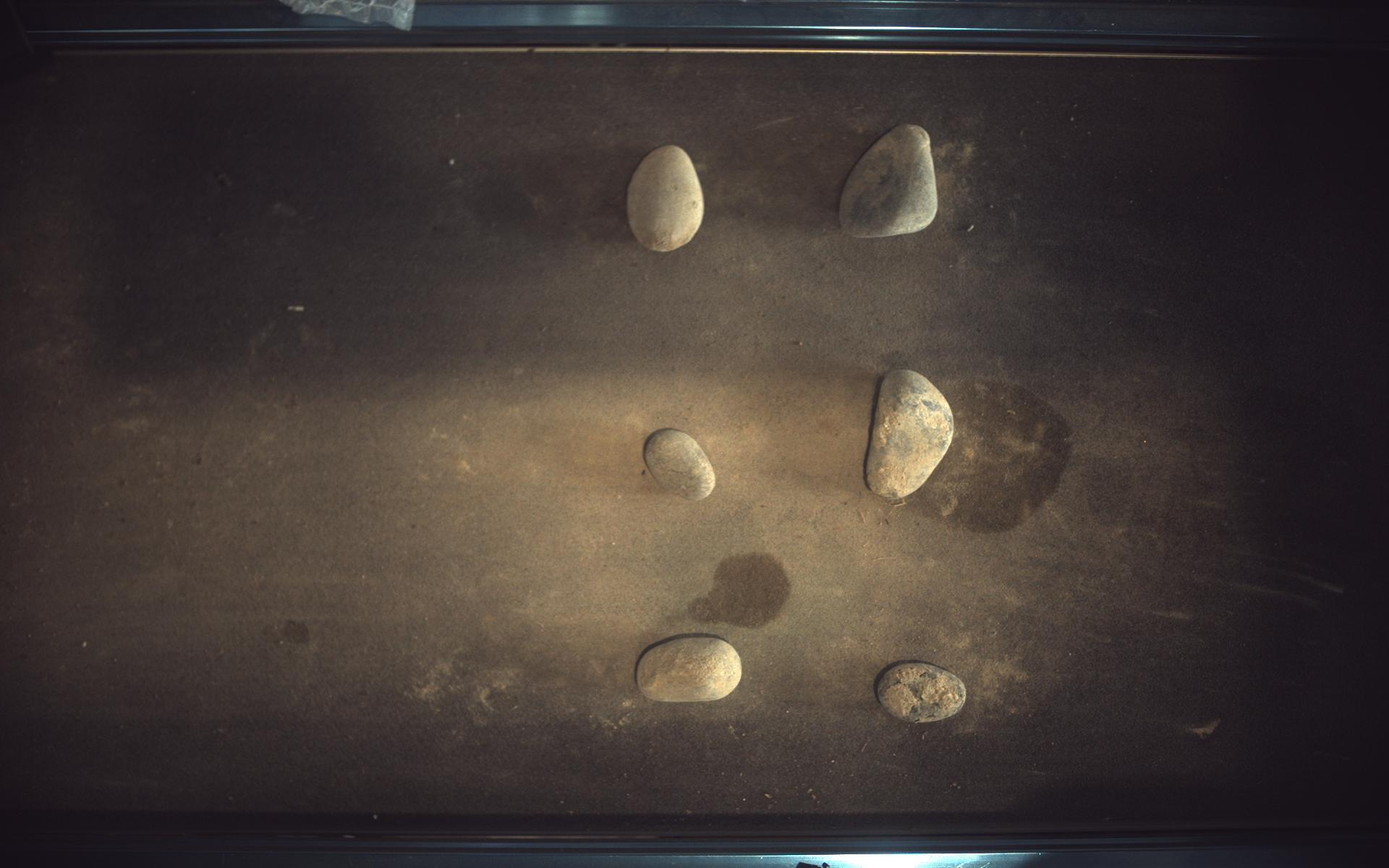stone: (867, 370, 956, 501), (841, 123, 939, 237), (628, 144, 705, 251), (637, 637, 742, 703), (878, 663, 969, 724), (645, 429, 717, 501)
